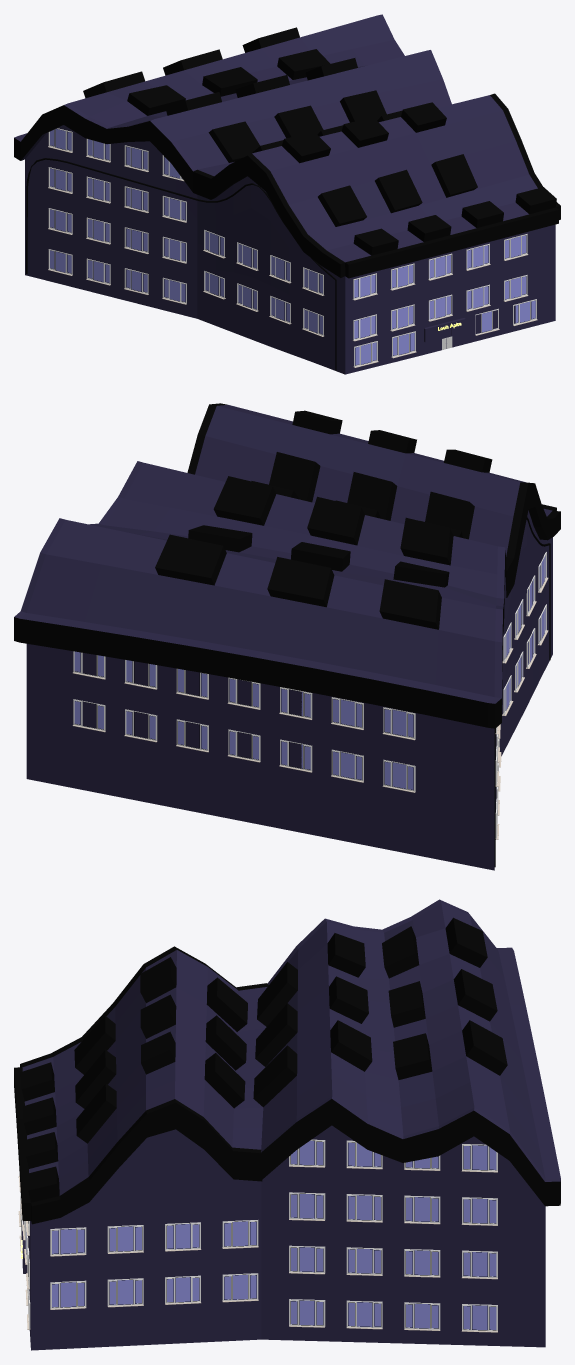
The model's file is WestralSquareShops2.fbx.
3 views of the same model, one above another, from view 1: azimuth 30°, elevation 25°; view 2: azimuth 150°, elevation 25°; view 3: azimuth 270°, elevation 25° (orthographic). The views are drawn at different scales.
Visible parts, largest first — view 1: WestralSquareShops2, Window.002, Window, Window.001, Vert, Window.006, Window.007; view 2: WestralSquareShops2, Window.003, Window.001, Vert; view 3: WestralSquareShops2, Window.004, Window.005.
Part boxes in pixels (bbox=[...]): WestralSquareShops2: bbox=[14, 14, 560, 374]; Window.002: bbox=[48, 128, 186, 304]; Window: bbox=[352, 234, 528, 341]; Window.001: bbox=[203, 230, 324, 336]; Vert: bbox=[26, 158, 336, 370]; Window.006: bbox=[353, 331, 416, 367]; Window.007: bbox=[475, 299, 537, 335]; WestralSquareShops2: bbox=[14, 403, 560, 870]; Window.003: bbox=[72, 651, 415, 792]; Window.001: bbox=[502, 552, 548, 715]; Vert: bbox=[494, 517, 550, 867]; WestralSquareShops2: bbox=[14, 899, 560, 1350]; Window.004: bbox=[289, 1139, 497, 1332]; Window.005: bbox=[50, 1220, 258, 1309].
Size of the model in its own units: 71.03 by 36.85 by 71.23.
